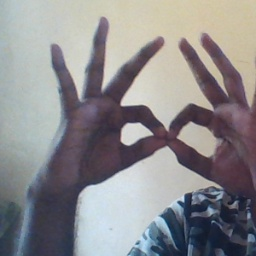B: (101, 84, 238, 177)
